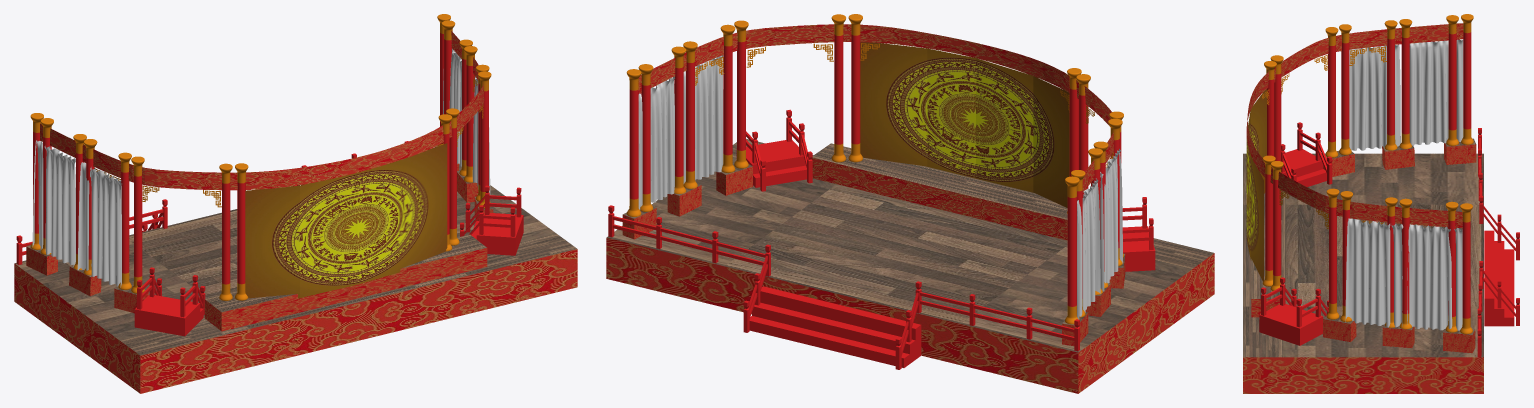
File: stage1x2ultraFinal.fbx
3 views of the same model, side by side, from view 1: azimuth 30°, elevation 25°; view 2: azimuth 150°, elevation 25°; view 3: azimuth 270°, elevation 25° (orthographic). The views are drawn at different scales.
Parts seen in each view (by area): view 1: sankhau, vom.001, vom.002, de.002, Plane.013, Plane.014, cot.004, cot.001, cau_thang_phu.000, cot.006, cot.007, cot.003 (+14 smaller); view 2: sankhau, vom.001, de.002, vom.002, cau_thang_chinh, Plane.010, Plane.011, cot.006, cot.002, cot.005, cot.007, Plane.014 (+13 smaller); view 3: sankhau, vom.002, Plane.010, Plane.011, Plane.014, Plane.013, vom.001, cau_thang_chinh, cot.003, cot.001, cot.000, cot.006 (+19 smaller).
Boxes of the visible parts, x1,y1,x2,y2 form: sankhau: [14, 163, 577, 393]; vom.001: [245, 143, 447, 298]; vom.002: [40, 31, 484, 190]; de.002: [204, 234, 487, 331]; Plane.013: [77, 162, 121, 287]; Plane.014: [32, 140, 75, 266]; cot.004: [219, 163, 248, 300]; cot.001: [118, 152, 144, 293]; cau_thang_phu.000: [134, 295, 203, 336]; cot.006: [438, 108, 459, 251]; cot.007: [459, 39, 477, 182]; cot.003: [30, 113, 53, 254]; sankhau: [606, 138, 1214, 393]; vom.001: [860, 42, 1069, 207]; de.002: [811, 143, 1067, 240]; vom.002: [638, 24, 1113, 192]; cau_thang_chinh: [749, 286, 921, 367]; Plane.010: [683, 55, 723, 183]; Plane.011: [638, 76, 674, 210]; cot.006: [831, 14, 862, 162]; cot.002: [626, 64, 653, 216]; cot.005: [720, 20, 748, 172]; cot.007: [671, 41, 697, 193]; Plane.014: [1077, 178, 1100, 319]; sankhau: [1243, 153, 1483, 393]; vom.002: [1246, 23, 1463, 228]; Plane.010: [1345, 218, 1403, 327]; Plane.011: [1407, 224, 1462, 330]; Plane.014: [1409, 39, 1463, 145]; Plane.013: [1349, 44, 1400, 150]; vom.001: [1246, 89, 1266, 281]; cau_thang_chinh: [1484, 230, 1514, 326]; cot.003: [1446, 14, 1473, 145]; cot.001: [1325, 24, 1351, 157]; cot.000: [1384, 19, 1412, 150]; cot.006: [1262, 155, 1283, 290].
Size of the model in its own units: 2700 by 1122 by 1551.
